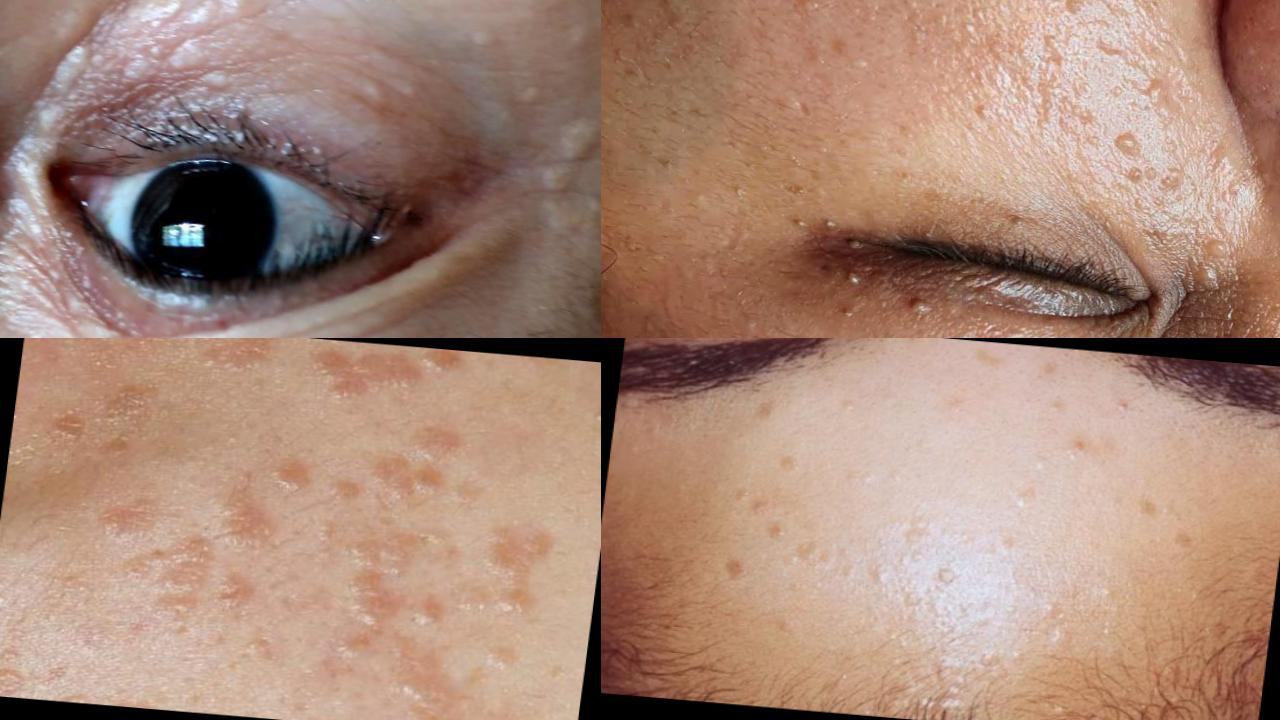flat_wart: (334, 520, 463, 639), (118, 515, 247, 627), (298, 339, 470, 415), (453, 516, 567, 630), (362, 418, 476, 517), (1101, 117, 1216, 205), (368, 646, 495, 720), (194, 562, 286, 648), (209, 482, 291, 561), (1020, 84, 1108, 144), (252, 453, 334, 512), (90, 490, 169, 550), (193, 339, 297, 383), (879, 1, 963, 52), (1, 634, 56, 701), (99, 376, 167, 430), (314, 471, 375, 518), (989, 474, 1042, 523), (919, 558, 991, 593), (978, 520, 1036, 562), (1139, 68, 1189, 115), (1038, 1, 1112, 26), (748, 516, 800, 543), (797, 1, 850, 27), (580, 400, 602, 436)
milium: (827, 261, 873, 306), (729, 170, 758, 204), (790, 206, 809, 234)
syringoma: (535, 104, 602, 258), (117, 22, 261, 92), (1177, 215, 1251, 339), (454, 13, 510, 68), (555, 6, 600, 69), (519, 77, 556, 113)
whitehead: (1094, 570, 1135, 606), (854, 457, 892, 492), (869, 561, 904, 597), (1101, 387, 1141, 418), (831, 395, 875, 421), (1048, 384, 1081, 417), (842, 557, 867, 582)
